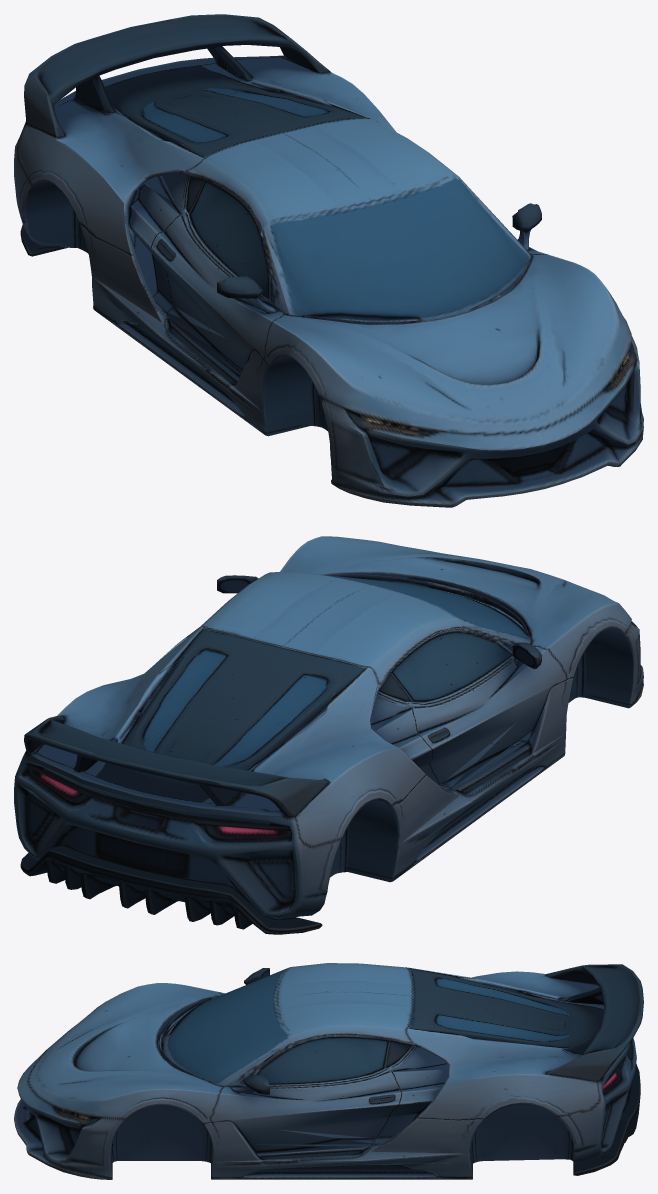
File: Car6.glb
The picture shows the model from 3 angles, top to bottom: view 1: azimuth 30°, elevation 25°; view 2: azimuth 150°, elevation 25°; view 3: azimuth 270°, elevation 25°; orthographic projection. The views are drawn at different scales.
Visible parts, largest first — view 1: part_0000; view 2: part_0000; view 3: part_0000.
Boxes of the visible parts, x1=… form: part_0000: x1=14, y1=14, x2=643, y2=507; part_0000: x1=14, y1=536, x2=643, y2=934; part_0000: x1=14, y1=963, x2=643, y2=1179.
Size of the model in its own units: 2.03 by 1.07 by 4.58.
1 material, 1 textured.
